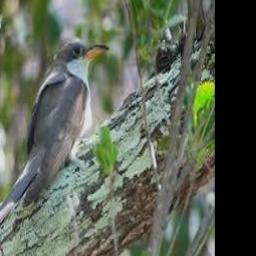Cuckoo: (0, 37, 108, 220)
